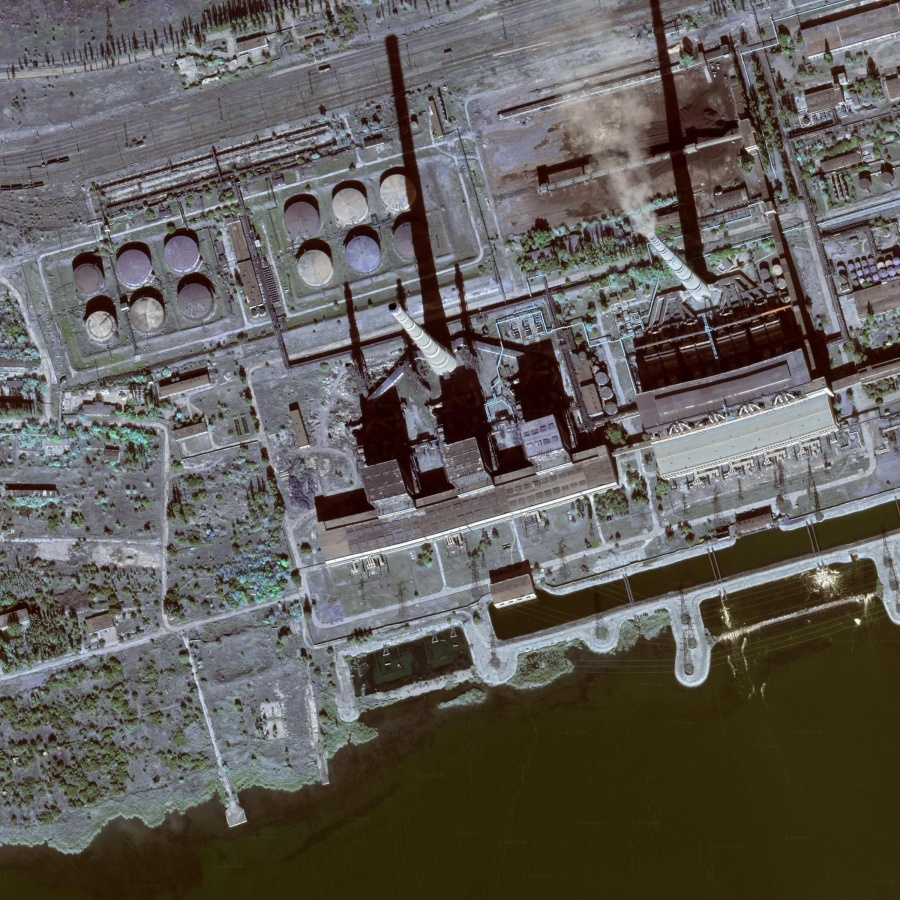PowerPlant: (34, 205, 242, 381)
